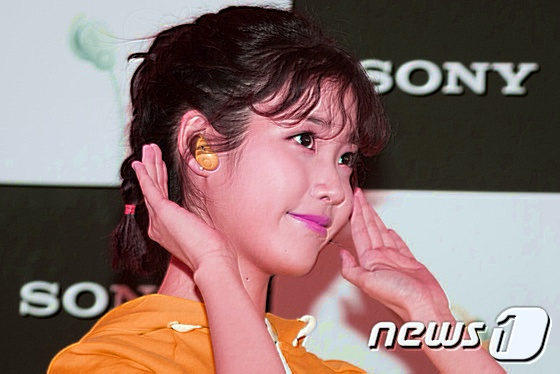earphone: (178, 110, 224, 178)
